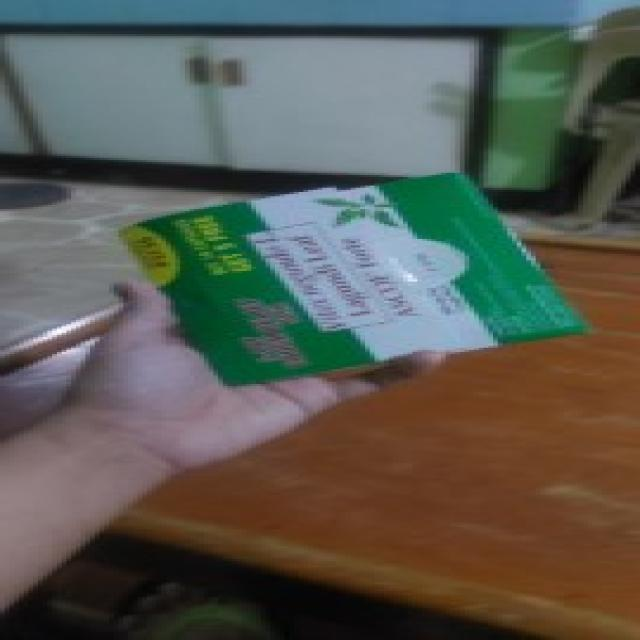Cacat: (118, 167, 598, 389)
